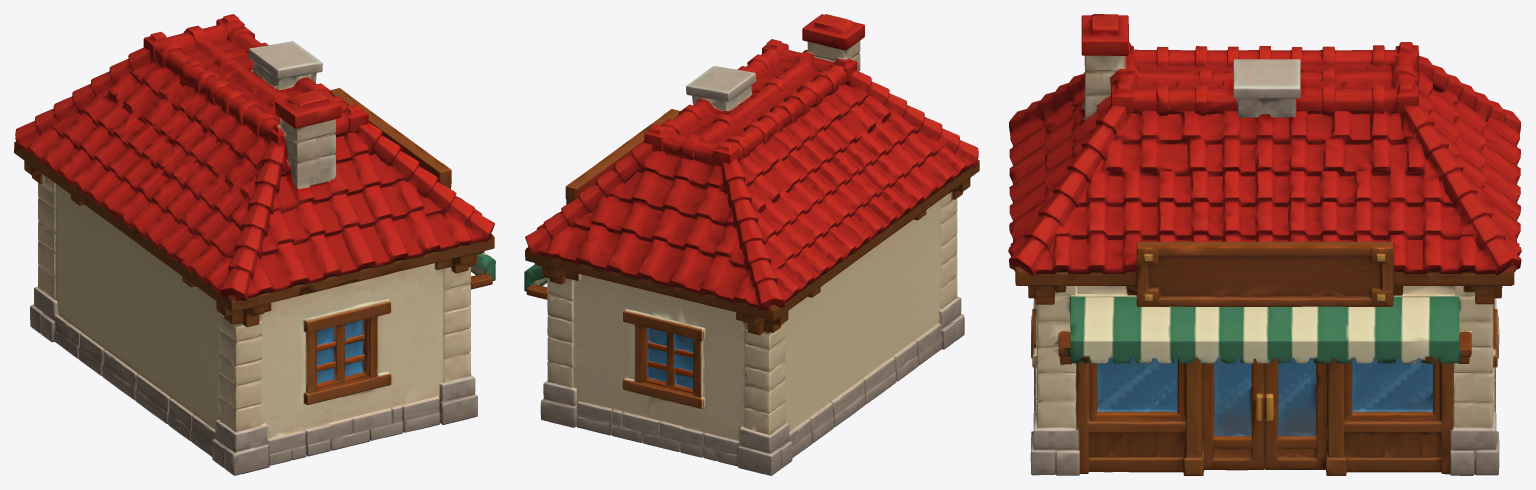
The model's file is shop-1-web.glb.
3 renders of one model, left to right at view 1: azimuth 30°, elevation 25°; view 2: azimuth 150°, elevation 25°; view 3: azimuth 270°, elevation 25°, orthographic. The views are drawn at different scales.
Parts seen in each view (by area): view 1: tripo_node_51251bb7-02aa-4b56-8b38-85046b758c67; view 2: tripo_node_51251bb7-02aa-4b56-8b38-85046b758c67; view 3: tripo_node_51251bb7-02aa-4b56-8b38-85046b758c67.
Boxes of the visible parts, box(x1,y1,x2,y2) form: tripo_node_51251bb7-02aa-4b56-8b38-85046b758c67: box(14, 14, 495, 475); tripo_node_51251bb7-02aa-4b56-8b38-85046b758c67: box(524, 14, 979, 475); tripo_node_51251bb7-02aa-4b56-8b38-85046b758c67: box(1008, 14, 1521, 475).
Bounding box in the file's own units: 2.78 × 3 × 3.69.
Materials: 1 (1 with a texture image).
